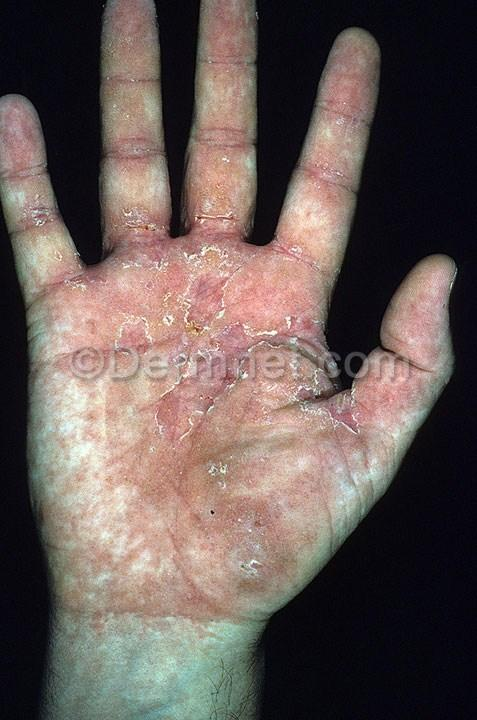Eczema: (149, 265, 317, 439), (231, 499, 275, 597), (189, 209, 243, 230), (31, 219, 59, 243)
